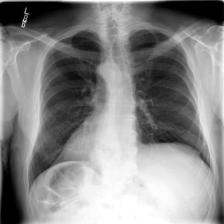normal: (21, 24, 216, 194)
